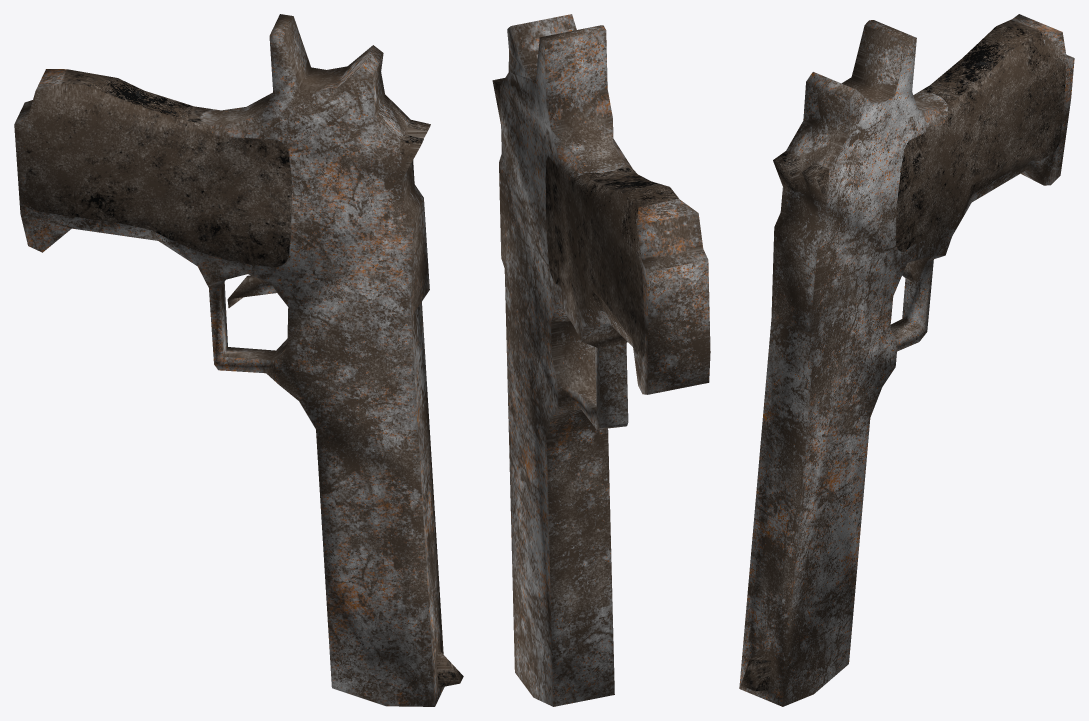
The model's file is Anim_idle_pistola_objetos.0025.obj.
3 renders of one model, left to right at view 1: azimuth 30°, elevation 25°; view 2: azimuth 150°, elevation 25°; view 3: azimuth 270°, elevation 25°, orthographic. The views are drawn at different scales.
Parts seen in each view (by area): view 1: Pistola1; view 2: Pistola1; view 3: Pistola1.
Boxes of the visible parts, left/top/right/bottom form: Pistola1: left=14, top=14, right=463, bottom=706; Pistola1: left=492, top=14, right=710, bottom=706; Pistola1: left=739, top=14, right=1074, bottom=706.
Bounding box in the file's own units: 0.8375 × 1.7 × 0.8179.
